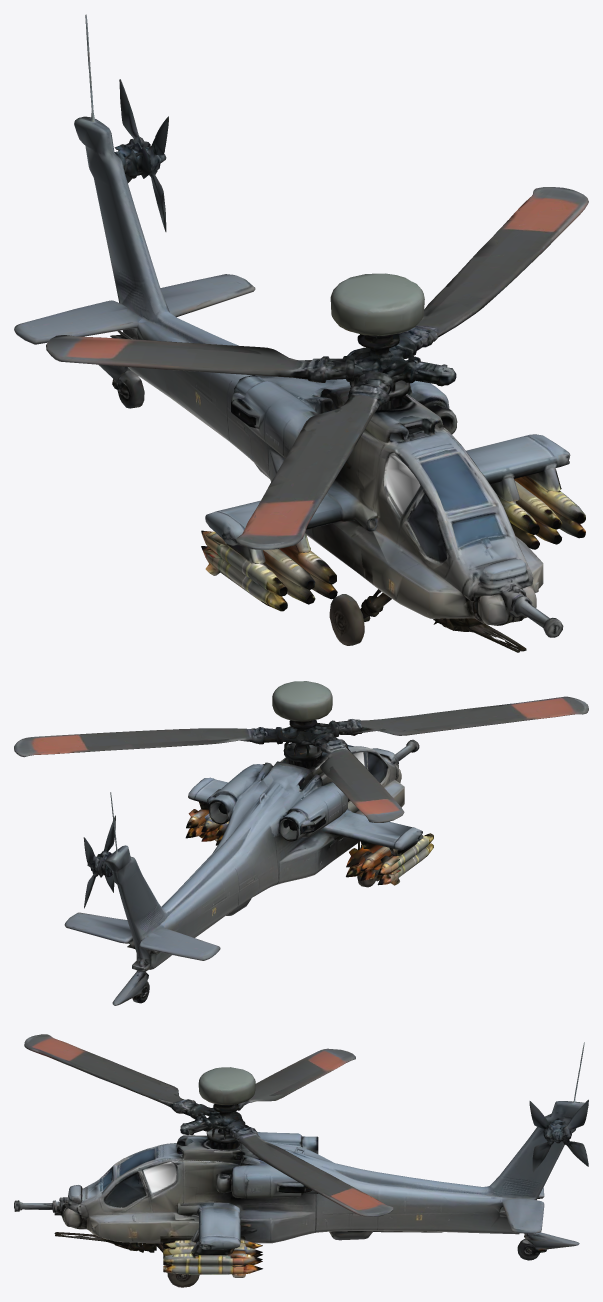
The model's file is helicopter.glb.
3 views of the same model, one above another, from view 1: azimuth 30°, elevation 25°; view 2: azimuth 150°, elevation 25°; view 3: azimuth 270°, elevation 25° (orthographic). The views are drawn at different scales.
Visible parts, largest first — view 1: node_0; view 2: node_0; view 3: node_0.
Part boxes in pixels (x1=…): node_0: x1=14, y1=14, x2=588, y2=652; node_0: x1=14, y1=681, x2=588, y2=1005; node_0: x1=14, y1=1034, x2=588, y2=1287.
Bounding box in the file's own units: 0.7503 × 0.4307 × 1.
1 material, 1 textured.
